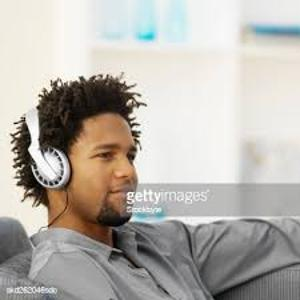Headphones: (24, 90, 75, 190)
